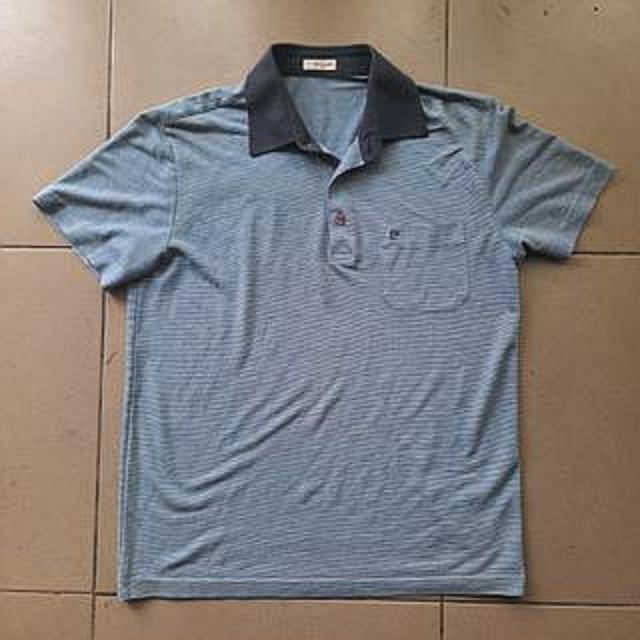T_SHIRT: (19, 32, 623, 619)
